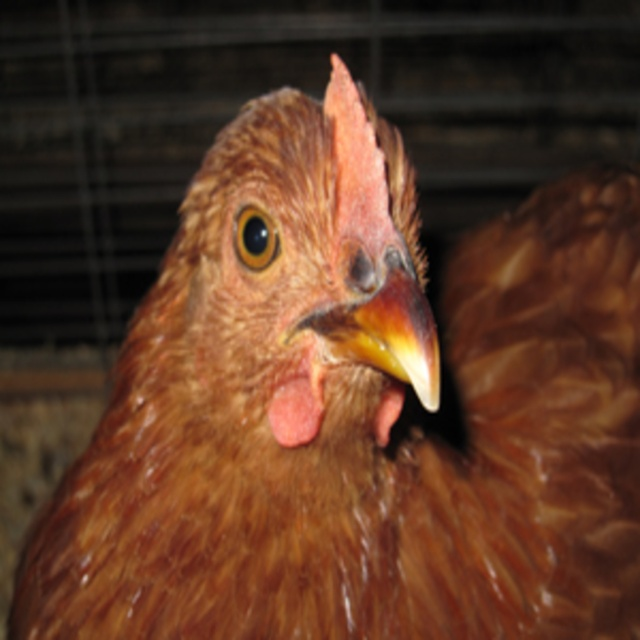Chicken: (0, 51, 638, 637)
